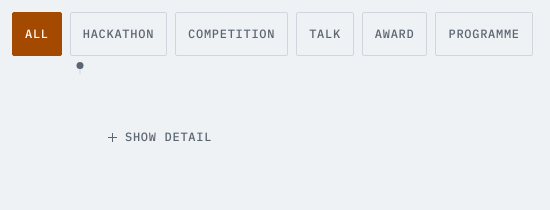
Test: Timeline › offers one on a hop that has something to show
This screenshot has width=550, height=210.
Click the button "Show detail".
click(160, 137)  # box [108, 115, 212, 159]
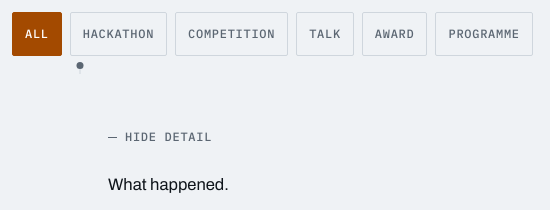
Now the button "Hide detail" is expanded, box [108, 115, 212, 159]
Now the text "What happened." is shown, box [108, 175, 229, 193]
